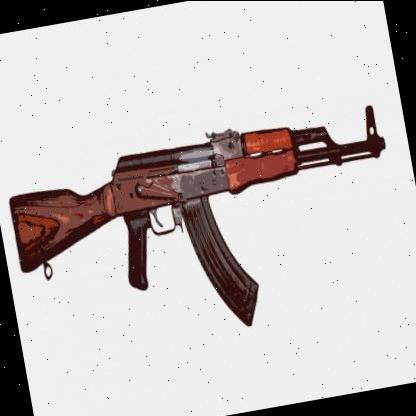rifle: (0, 80, 407, 372)
